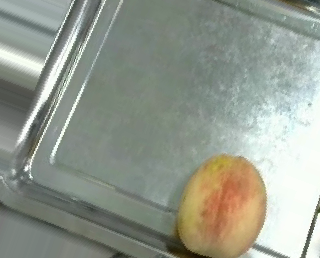Peach: (178, 153, 266, 256)
